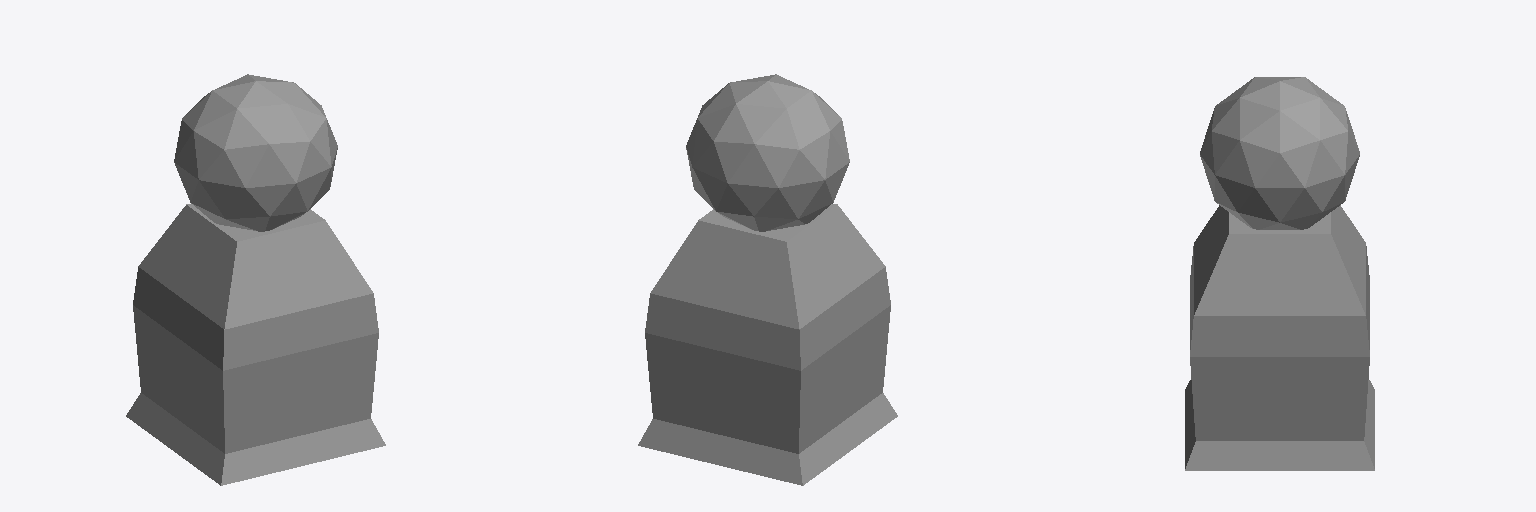
Rendered from pawn.obj.
The picture shows the model from 3 angles: view 1: azimuth 30°, elevation 25°; view 2: azimuth 150°, elevation 25°; view 3: azimuth 270°, elevation 25°; orthographic projection.
Visible parts, largest first — view 1: Cube_Cube_Material, Icosphere_Icosphere_Material.001; view 2: Cube_Cube_Material, Icosphere_Icosphere_Material.001; view 3: Cube_Cube_Material, Icosphere_Icosphere_Material.001.
Part boxes in pixels (bbox=[...]): Cube_Cube_Material: bbox=[126, 204, 385, 485]; Icosphere_Icosphere_Material.001: bbox=[174, 74, 337, 231]; Cube_Cube_Material: bbox=[638, 204, 897, 485]; Icosphere_Icosphere_Material.001: bbox=[686, 74, 849, 231]; Cube_Cube_Material: bbox=[1185, 205, 1374, 470]; Icosphere_Icosphere_Material.001: bbox=[1200, 77, 1359, 229].
Bounding box in the file's own units: 1.01 × 2.03 × 1.01.